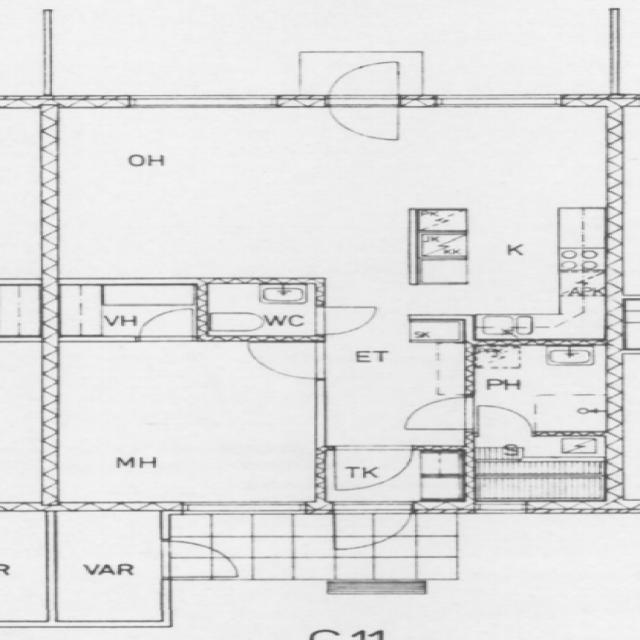door: (333, 501, 412, 553), (334, 446, 412, 491), (328, 59, 397, 108), (328, 95, 397, 144), (160, 541, 238, 577), (247, 343, 324, 379), (403, 397, 475, 429), (137, 308, 192, 342), (479, 403, 532, 436), (314, 306, 376, 334)
